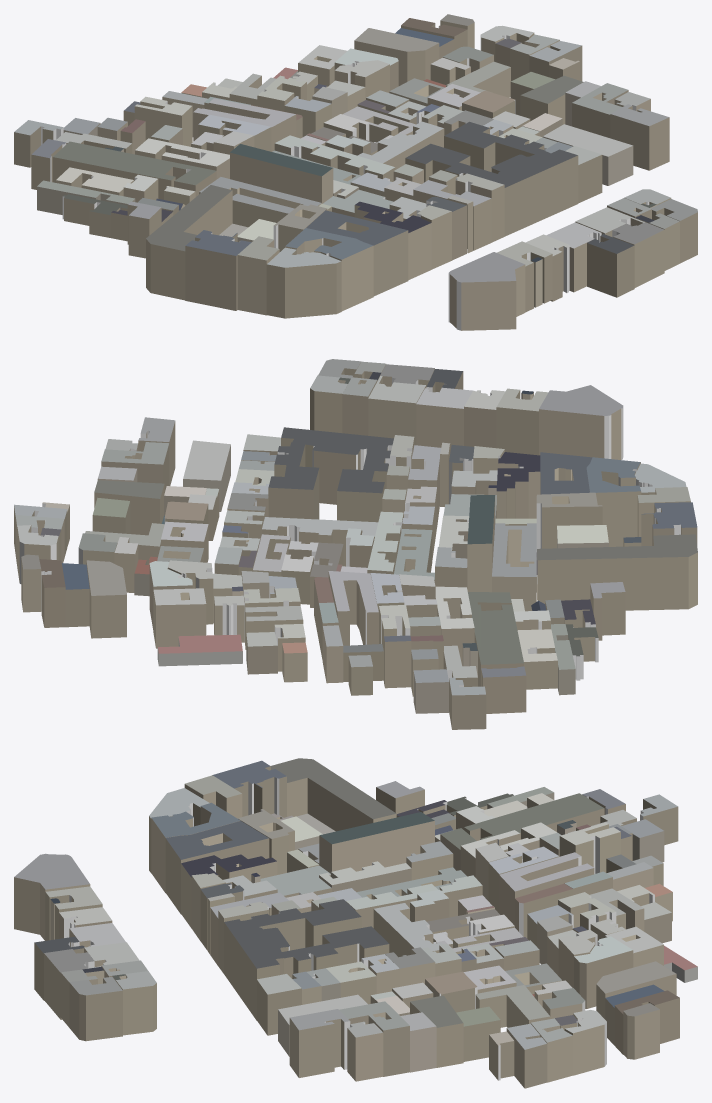
The picture shows the model from 3 angles, top to bottom: view 1: azimuth 30°, elevation 25°; view 2: azimuth 150°, elevation 25°; view 3: azimuth 270°, elevation 25°; orthographic projection. The views are drawn at different scales.
Parts seen in each view (by area): view 1: tuile; view 2: tuile; view 3: tuile.
Part boxes in pixels (x1,y1,x2,y2): tuile: (14, 14, 697, 330); tuile: (14, 359, 697, 729); tuile: (14, 758, 697, 1088).
Bounding box in the file's own units: 271 × 33.39 × 278.
